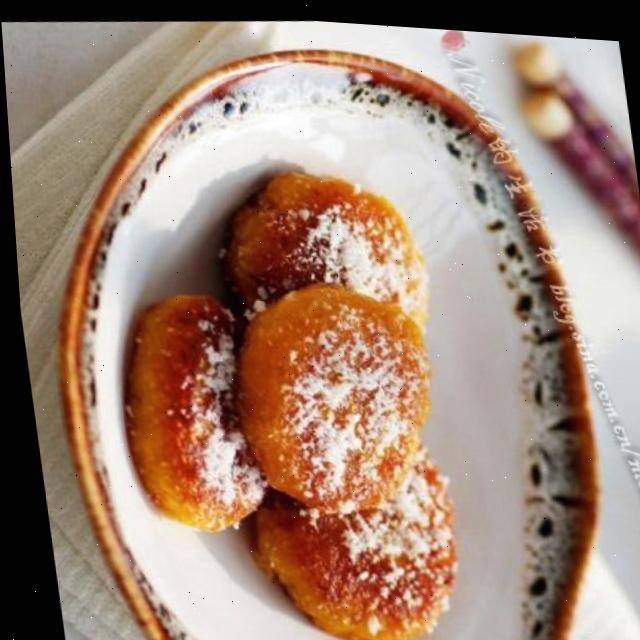炸货点心: (66, 110, 525, 640)
蛋糕甜品: (66, 110, 525, 640)
